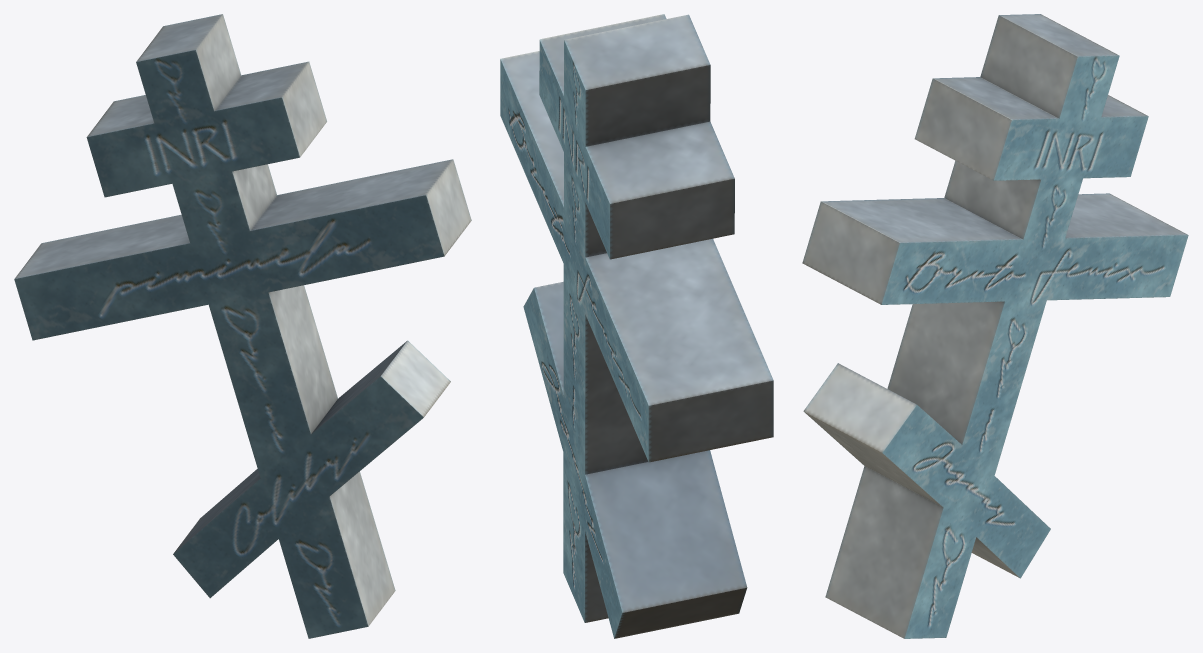
The picture shows the model from 3 angles, left to right: view 1: azimuth 30°, elevation 25°; view 2: azimuth 150°, elevation 25°; view 3: azimuth 270°, elevation 25°; orthographic projection. The views are drawn at different scales.
Visible parts, largest first — view 1: Cruz_Orto_Cube.011; view 2: Cruz_Orto_Cube.011; view 3: Cruz_Orto_Cube.011.
Part boxes in pixels (x1,y1,x2,y2): Cruz_Orto_Cube.011: (14, 14, 471, 638); Cruz_Orto_Cube.011: (500, 14, 773, 638); Cruz_Orto_Cube.011: (802, 14, 1188, 638).
Bounding box in the file's own units: 1.73 × 2.69 × 1.67.
